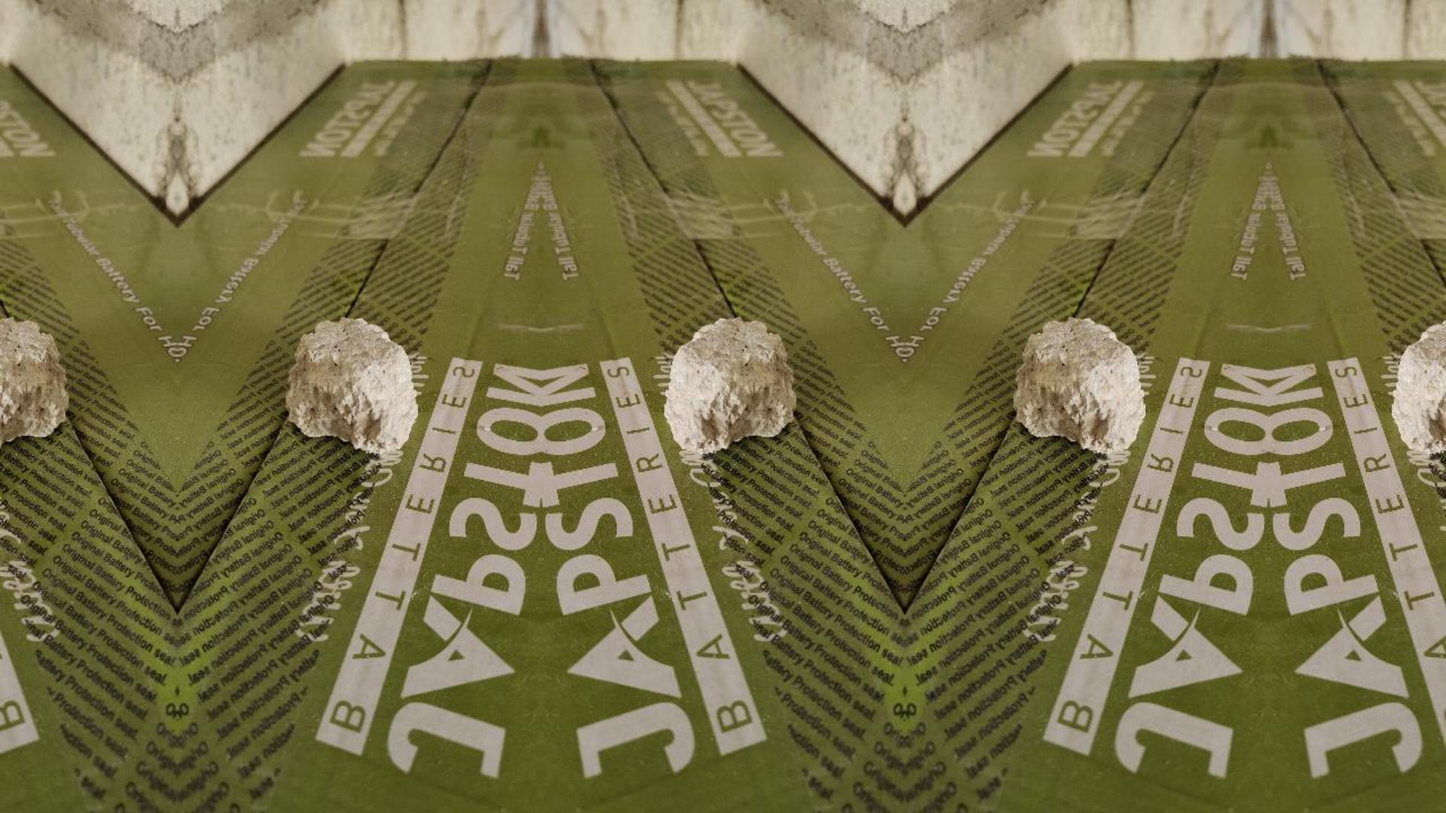rock: (1013, 317, 1144, 460), (664, 317, 794, 457), (286, 318, 417, 455), (0, 316, 68, 442), (1392, 322, 1445, 461)
